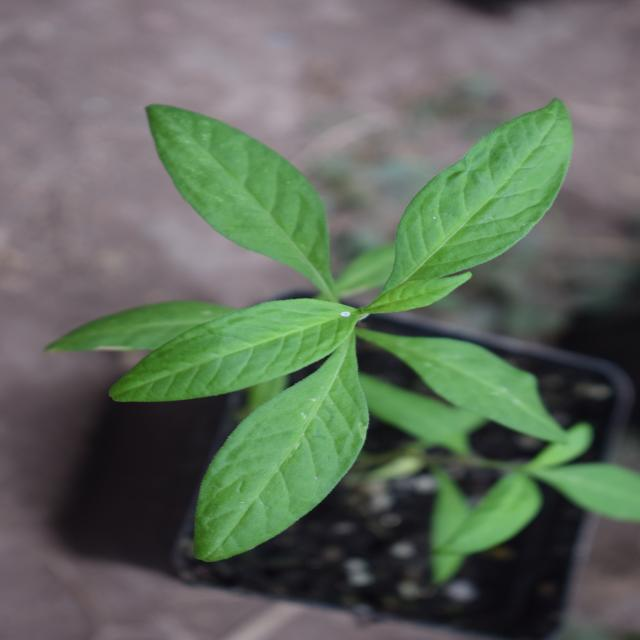white_smart_weed: (85, 66, 553, 551)
